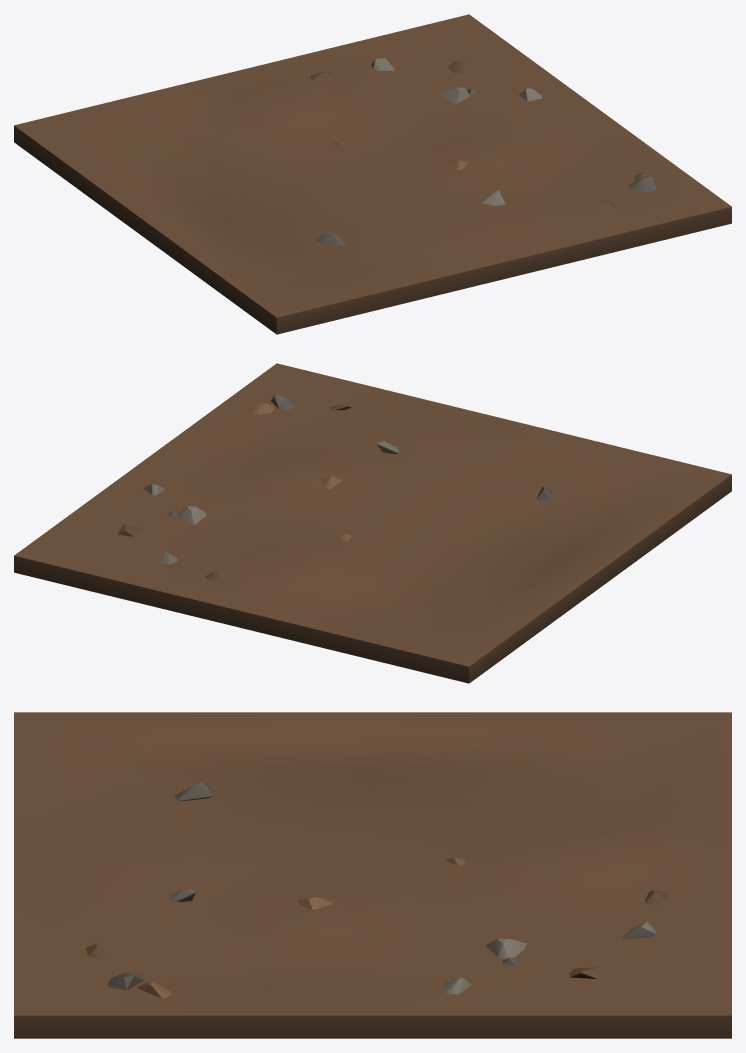
File: floor_earth_large_B.glb
3 views of the same model, one above another, from view 1: azimuth 30°, elevation 25°; view 2: azimuth 150°, elevation 25°; view 3: azimuth 270°, elevation 25° (orthographic). The views are drawn at different scales.
Parts seen in each view (by area): view 1: Item; view 2: Item; view 3: Item.
Part boxes in pixels (left/top/right/bottom): Item: left=14, top=14, right=731, bottom=334; Item: left=14, top=363, right=731, bottom=683; Item: left=14, top=712, right=731, bottom=1038.
Bounding box in the file's own units: 4 × 0.2233 × 4.
Materials: 1 (1 with a texture image).
